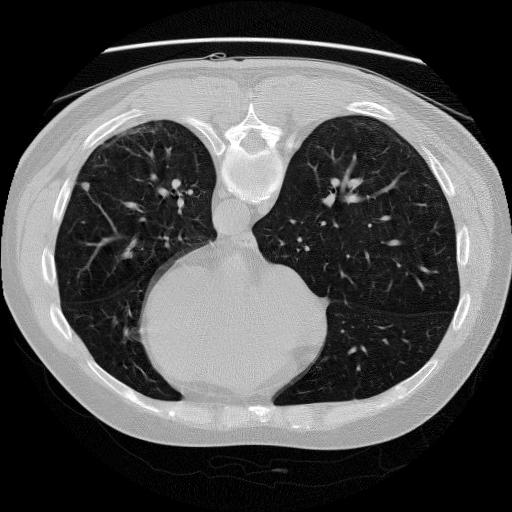nodule: (80, 180, 94, 194)
